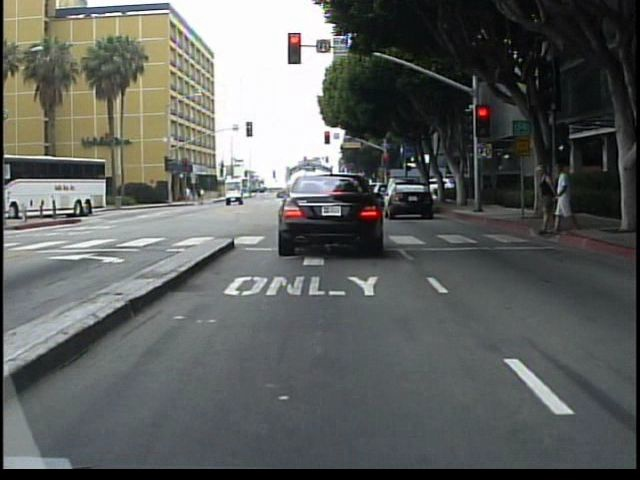person: (552, 161, 577, 239), (533, 163, 555, 237)
